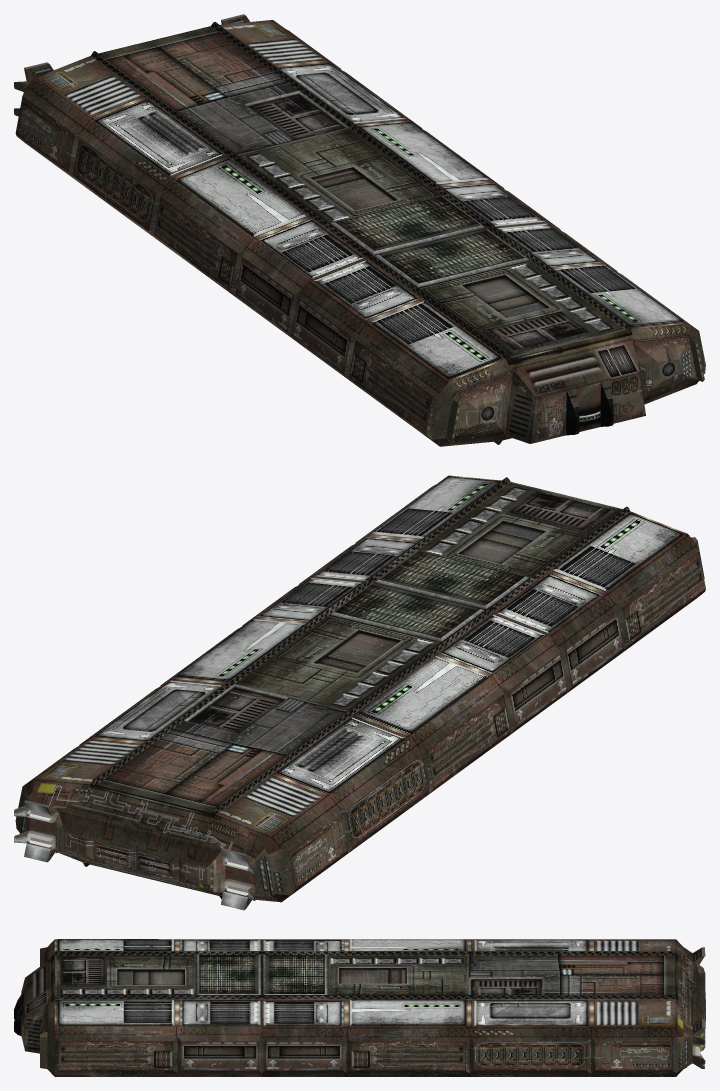
Rendered from Btransport2.obj.
The picture shows the model from 3 angles, top to bottom: view 1: azimuth 30°, elevation 25°; view 2: azimuth 150°, elevation 25°; view 3: azimuth 270°, elevation 25°; orthographic projection. The views are drawn at different scales.
Parts seen in each view (by area): view 1: object0, object1; view 2: object0, object1; view 3: object0, object1.
Part boxes in pixels (<box>): object0: <box>14,14,705,446</box>; object1: <box>178,72,682,424</box>; object0: <box>14,475,705,910</box>; object1: <box>122,476,682,733</box>; object0: <box>14,939,705,1076</box>; object1: <box>58,939,570,1025</box>.
Size of the model in its own units: 4.52 by 1.38 by 12.91.
